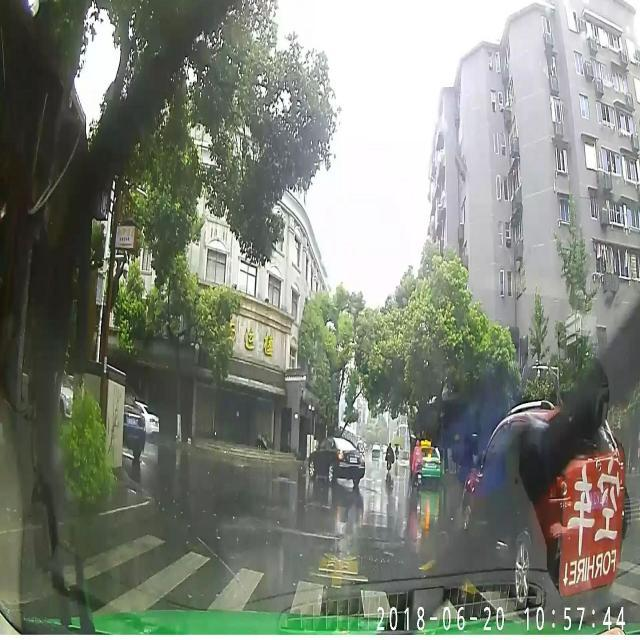car: (462, 400, 630, 613), (308, 437, 365, 481), (122, 390, 145, 457), (416, 443, 440, 481), (370, 441, 380, 464)
